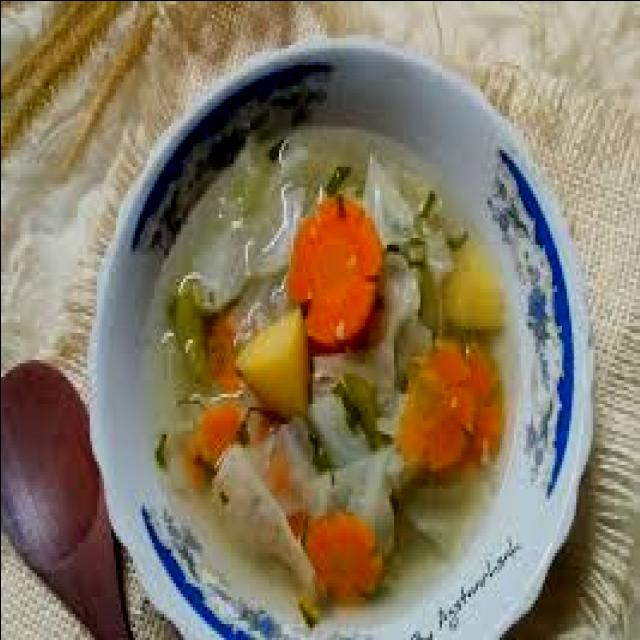sop: (141, 125, 506, 640)
